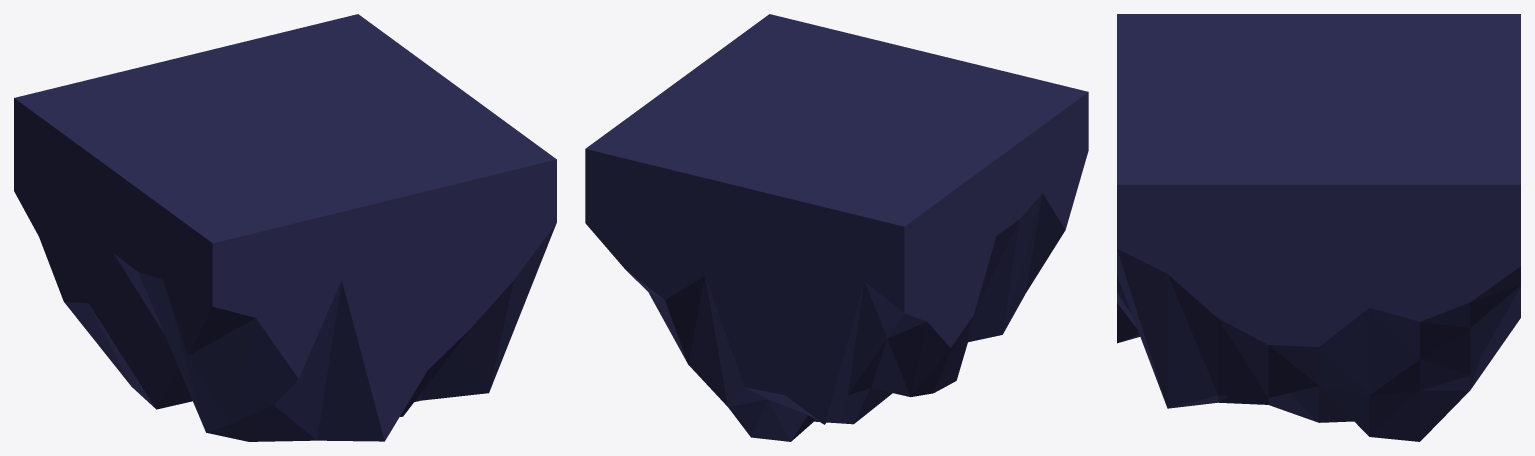
Rendered from Floortile4.fbx.
3 views of the same model, side by side, from view 1: azimuth 30°, elevation 25°; view 2: azimuth 150°, elevation 25°; view 3: azimuth 270°, elevation 25° (orthographic). The views are drawn at different scales.
Parts seen in each view (by area): view 1: Box009; view 2: Box009; view 3: Box009.
Part boxes in pixels (bbox=[...]): Box009: bbox=[14, 14, 556, 441]; Box009: bbox=[585, 14, 1088, 441]; Box009: bbox=[1117, 14, 1520, 441].
Size of the model in its own units: 100 by 100 by 87.8.
